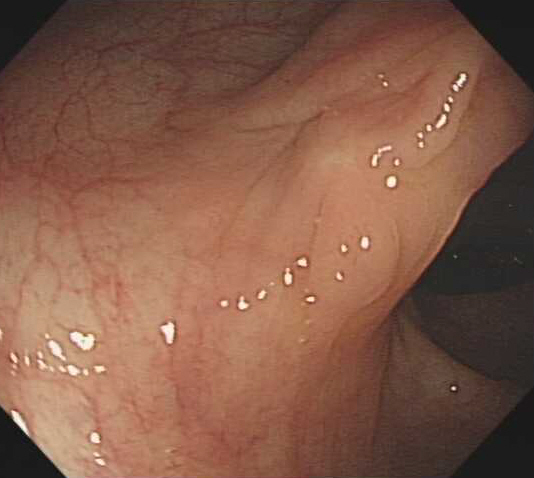adenoma: (309, 183, 403, 319)
